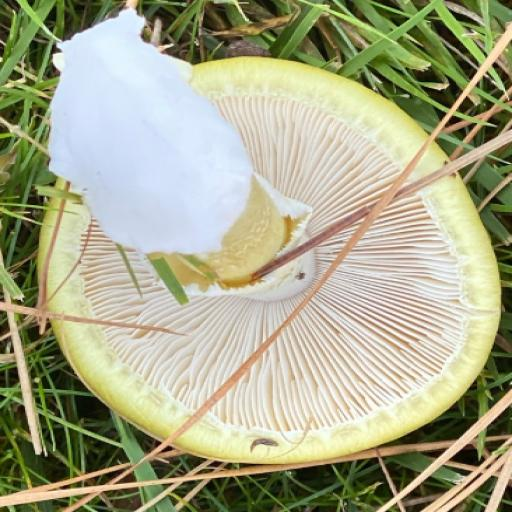Death Cap: (0, 12, 512, 506)
